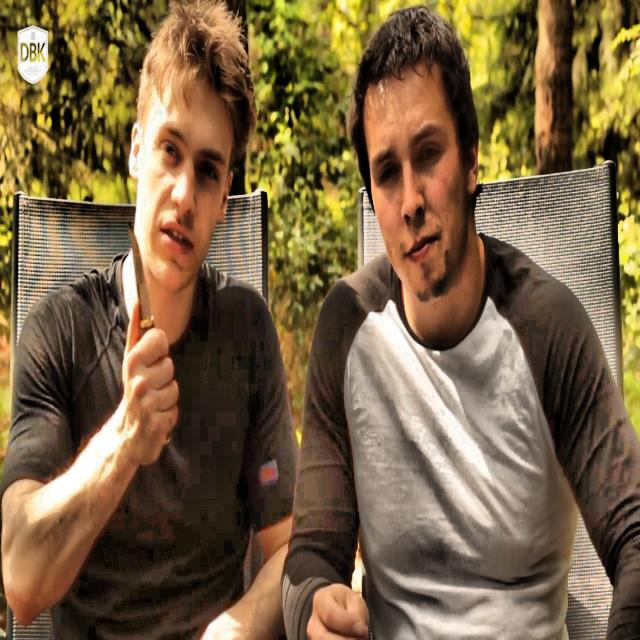knife: (129, 224, 155, 341)
